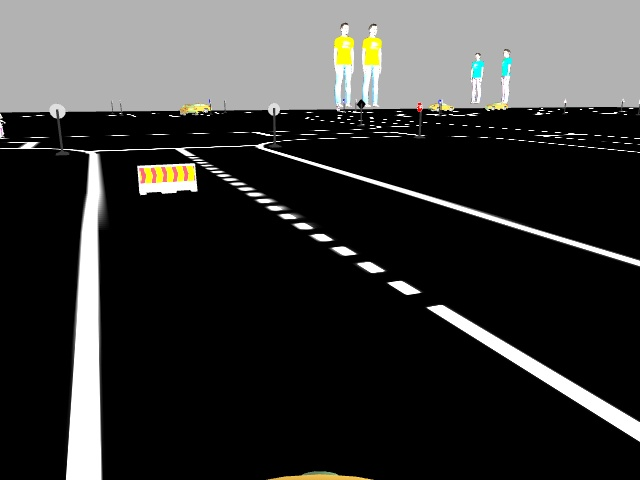ClosedRoadStand: (138, 166, 196, 191)
